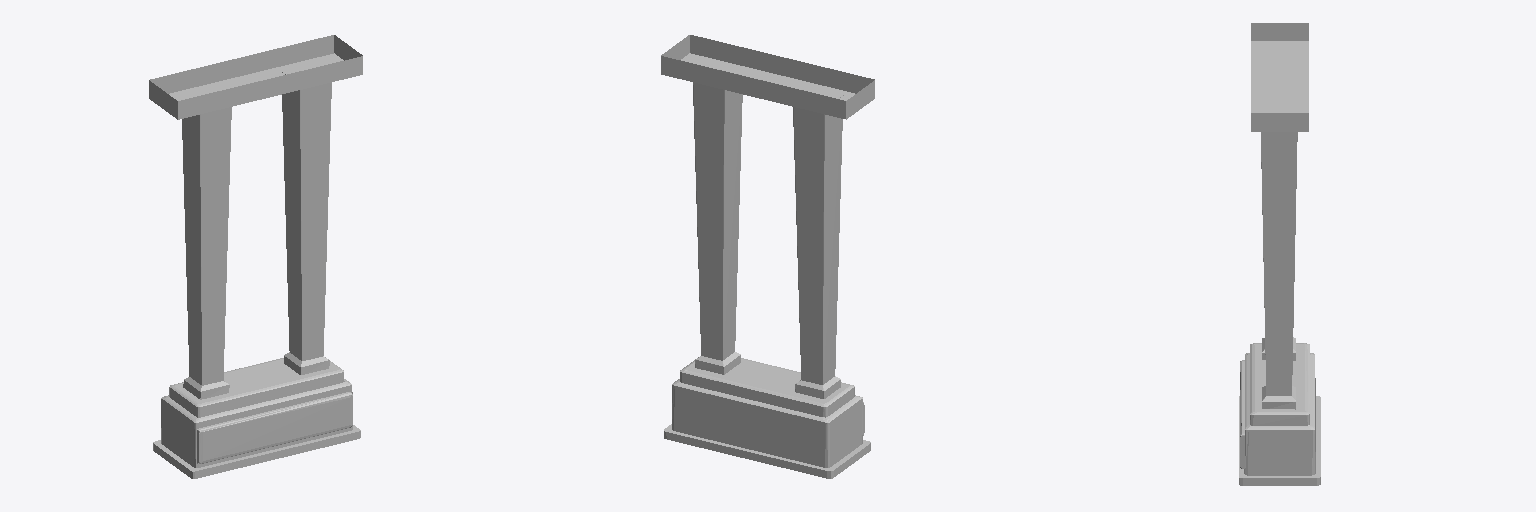
File: Piano_part_4.obj
3 renders of one model, left to right at view 1: azimuth 30°, elevation 25°; view 2: azimuth 150°, elevation 25°; view 3: azimuth 270°, elevation 25°, orthographic.
Visible parts, largest first — view 1: default; view 2: default; view 3: default.
Boxes of the visible parts, x1,y1,x2,y2 form: default: [149, 35, 362, 478]; default: [661, 35, 874, 478]; default: [1239, 23, 1320, 485].
Bounding box in the file's own units: 17.06 × 33.06 × 6.53.